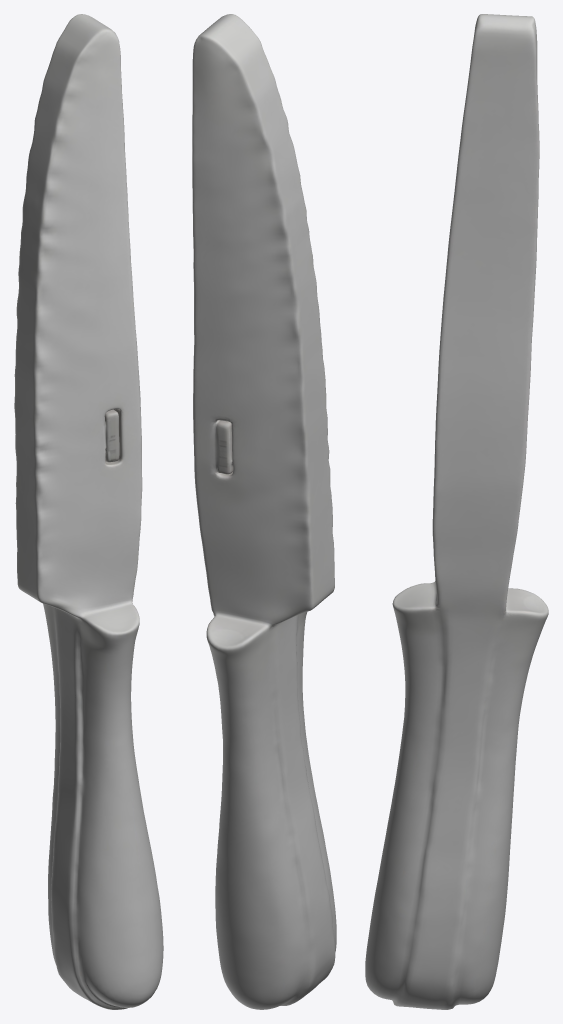
The model's file is model_carving_knife.glb.
3 views of the same model, side by side, from view 1: azimuth 30°, elevation 25°; view 2: azimuth 150°, elevation 25°; view 3: azimuth 270°, elevation 25° (orthographic). The views are drawn at different scales.
Visible parts, largest first — view 1: tripo_node_6a44da0f-c94c-46c0-ad14-6ed324f75b04; view 2: tripo_node_6a44da0f-c94c-46c0-ad14-6ed324f75b04; view 3: tripo_node_6a44da0f-c94c-46c0-ad14-6ed324f75b04.
Part boxes in pixels (x1=…): tripo_node_6a44da0f-c94c-46c0-ad14-6ed324f75b04: x1=14, y1=14, x2=163, y2=1009; tripo_node_6a44da0f-c94c-46c0-ad14-6ed324f75b04: x1=192, y1=14, x2=336, y2=1009; tripo_node_6a44da0f-c94c-46c0-ad14-6ed324f75b04: x1=365, y1=14, x2=548, y2=1009.
Size of the model in its own units: 0.118 by 0.9997 by 0.1665.
Materials: 1 (1 with a texture image).
